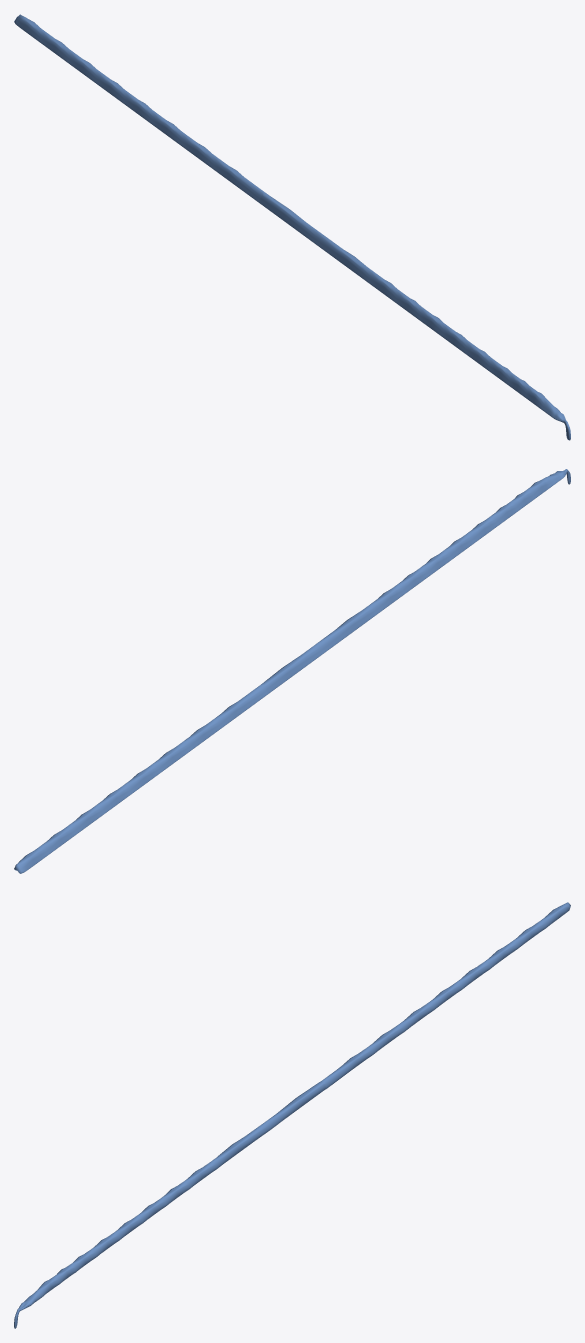
The model's file is rio_v3.fbx.
3 views of the same model, one above another, from view 1: azimuth 30°, elevation 25°; view 2: azimuth 150°, elevation 25°; view 3: azimuth 330°, elevation 25° (orthographic).
Parts seen in each view (by area): view 1: Cylinder.001; view 2: Cylinder.001; view 3: Cylinder.001.
Part boxes in pixels (x1=…): Cylinder.001: x1=14, y1=14, x2=570, y2=440; Cylinder.001: x1=14, y1=469, x2=570, y2=873; Cylinder.001: x1=14, y1=902, x2=570, y2=1328.
Bounding box in the file's own units: 1133 × 2946 × 120021.
